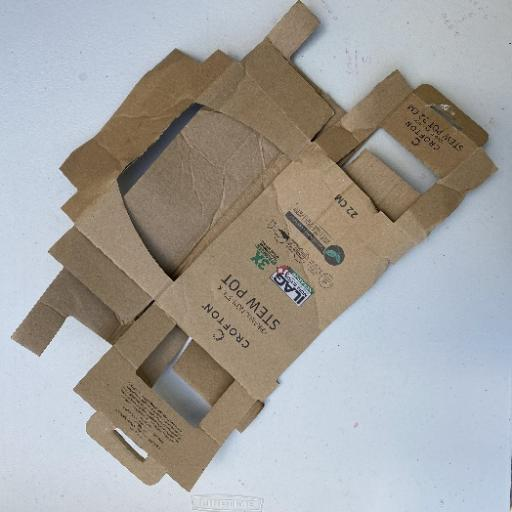Cardboard: (11, 2, 498, 492)
